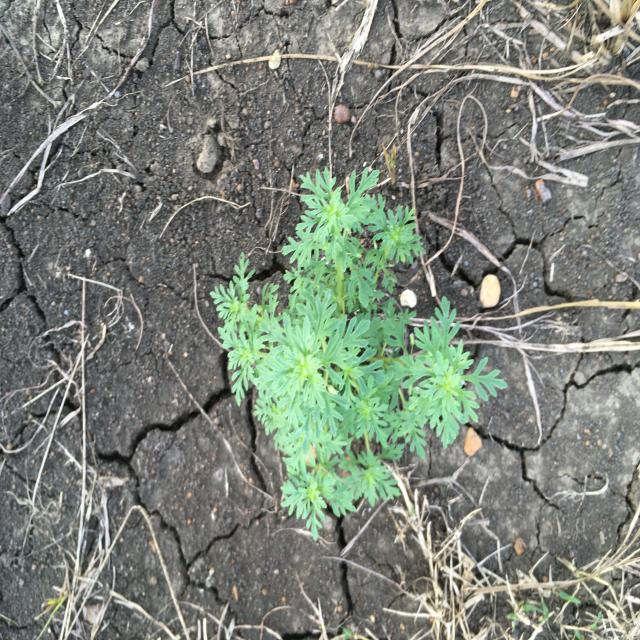Ragweed: (208, 165, 509, 542)
